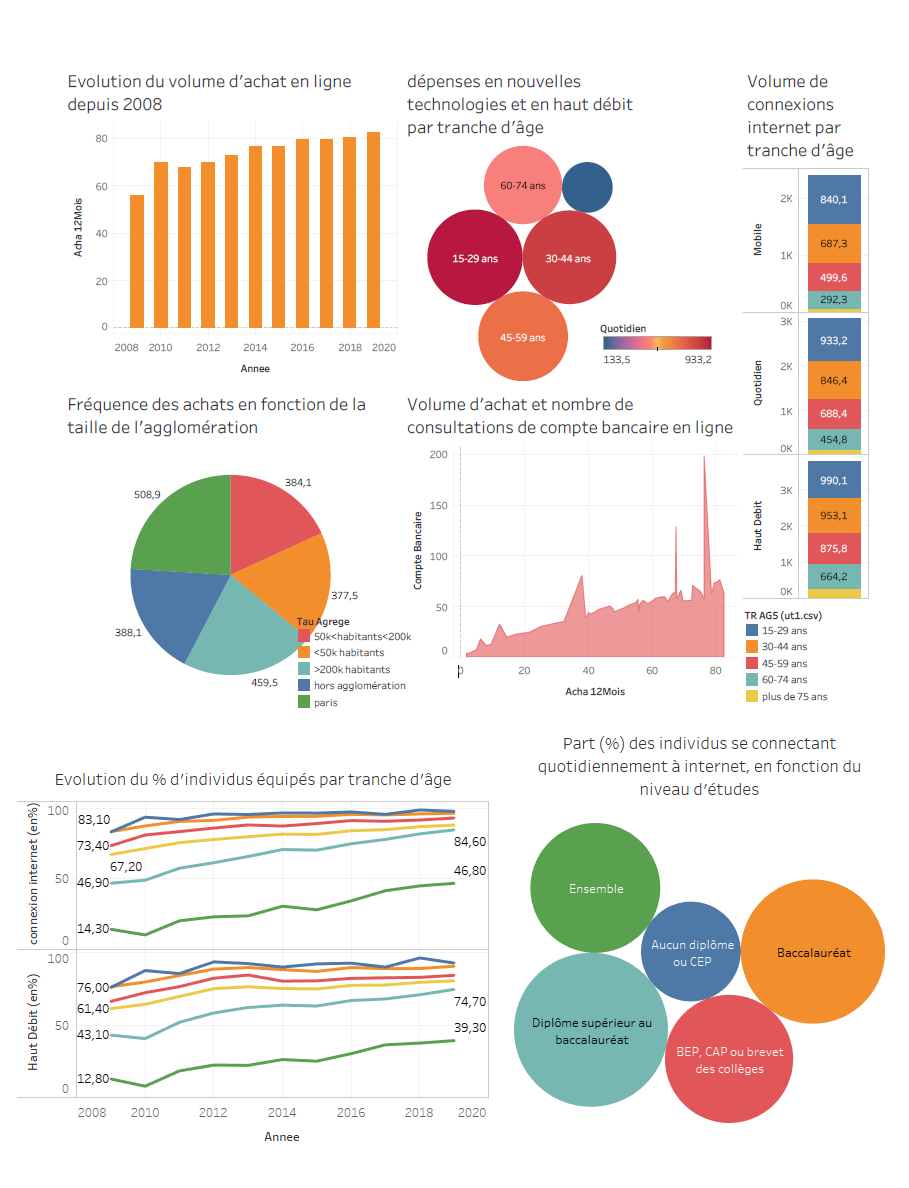

The page's visual inventory and layout, read from the dashboard file:
{"tool":"tableau","page":{"name":"Tableau de bord 1","canvas":[1000,800],"ordinal":0},"visuals":[{"type":"worksheet","box":[0,0,1000,800]},{"type":"worksheet","param":"horz","box":[8,8,984,784]},{"type":"worksheet","box":[8,8,824,784]},{"type":"worksheet","title":"Feuille 5","mark":"Bar","rows":["ACHA_12MOIS"],"cols":["ANNEE"],"box":[8,8,412,392]},{"type":"worksheet","title":"Feuille 2","mark":"Circle","box":[420,8,412,392]},{"type":"worksheet","param":"vert","box":[832,8,160,784]},{"type":"worksheet","title":"Feuille 3","mark":"Automatic","rows":["MOBILE","QUOTIDIEN","HAUT_DEBIT"],"box":[832,8,160,658]},{"type":"worksheet","title":"Feuille 2","mark":"Circle","param":"[federated.0w6a7hz08t5hpj19ojp451fbn96v].[sum:QUOTIDIEN:qk]","box":[662,319,140,76]},{"type":"worksheet","title":"Feuille 4","mark":"Pie","box":[8,400,412,392]},{"type":"worksheet","title":"Feuille 1","mark":"Area","rows":["COMPTE_BANCAIRE"],"cols":["ACHA_12MOIS"],"box":[420,400,412,392]},{"type":"worksheet","title":"Feuille 4","mark":"Pie","param":"[federated.1bj732e0wl26nn195ta3q1eyc84v].[none:TAU_AGREGE:nk]","box":[218,637,145,118]},{"type":"worksheet","title":"Feuille 3","mark":"Automatic","rows":["MOBILE","QUOTIDIEN","HAUT_DEBIT"],"param":"[federated.0w6a7hz08t5hpj19ojp451fbn96v].[none:TR_AG5 (ut1.csv):nk]","box":[832,666,160,126]}]}

Visuals, with their boxes on the page's 1000x800 design canvas (x1, y1, x2, y2). These are canvas units, not pixel positions in the 909x1188 screenshot, which may show the page scaled, cropped or inside an application window:
worksheet: 0/0/1000/800
worksheet: 8/8/992/792
worksheet: 8/8/832/792
"Feuille 5" worksheet (Bar marks): 8/8/420/400
"Feuille 2" worksheet (Circle marks): 420/8/832/400
worksheet: 832/8/992/792
"Feuille 3" worksheet: 832/8/992/666
"Feuille 2" worksheet (Circle marks): 662/319/802/395
"Feuille 4" worksheet (Pie marks): 8/400/420/792
"Feuille 1" worksheet (Area marks): 420/400/832/792
"Feuille 4" worksheet (Pie marks): 218/637/363/755
"Feuille 3" worksheet: 832/666/992/792
